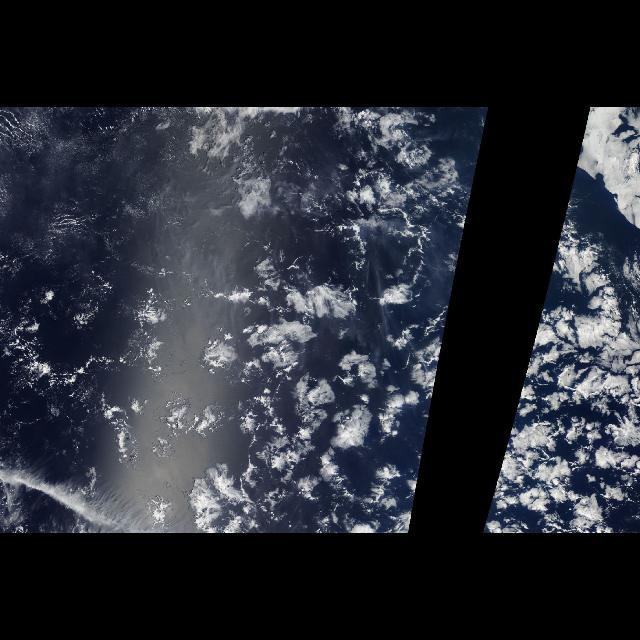Flower: (112, 115, 490, 533), (480, 115, 640, 533)
Gravel: (8, 263, 240, 445)
